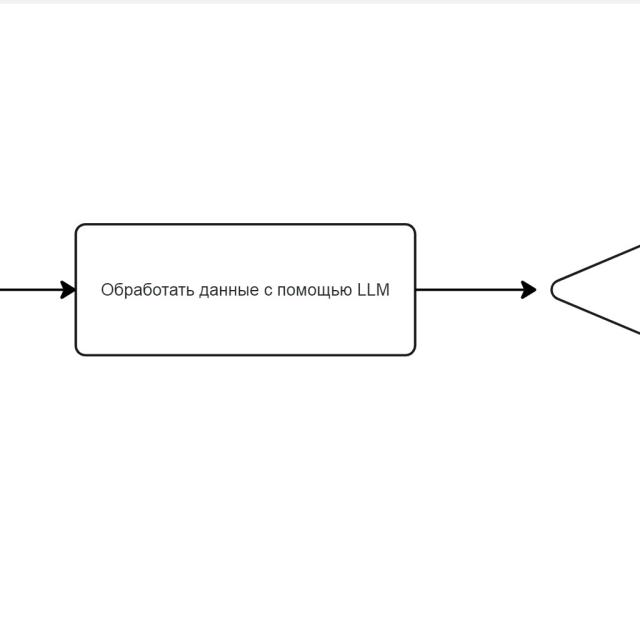arrow: (418, 276, 538, 304)
rectangle: (74, 223, 418, 356)
